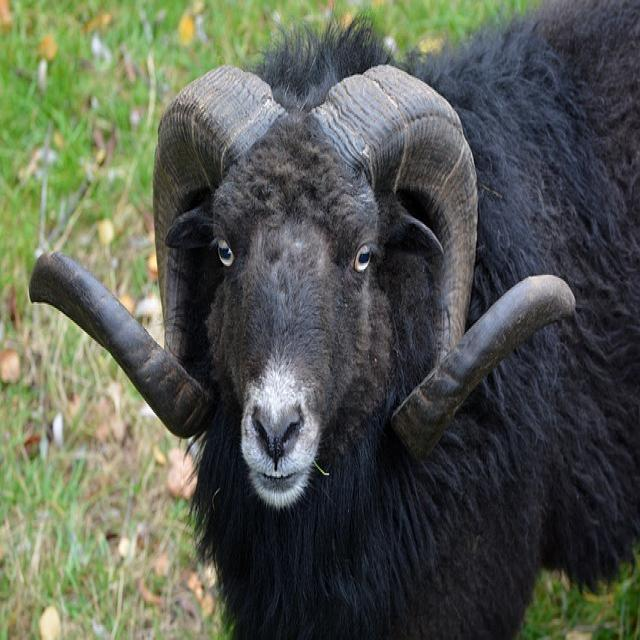goat: (30, 4, 640, 638)
